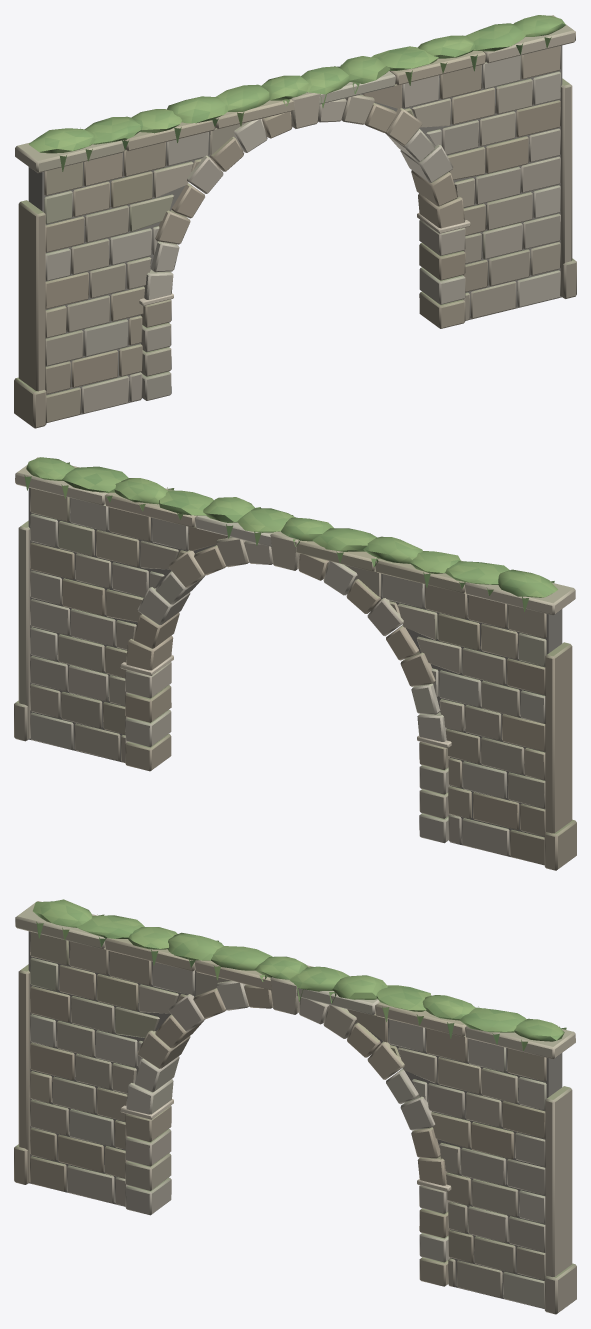
File: forest_tunnel_portal.glb
3 renders of one model, top to bottom at view 1: azimuth 30°, elevation 25°; view 2: azimuth 150°, elevation 25°; view 3: azimuth 330°, elevation 25°, orthographic.
Visible parts, largest first — view 1: forest_tunnel_portal; view 2: forest_tunnel_portal; view 3: forest_tunnel_portal.
Boxes of the visible parts, <box> form: forest_tunnel_portal: <box>14,15,576,428</box>; forest_tunnel_portal: <box>14,457,576,870</box>; forest_tunnel_portal: <box>14,899,576,1314</box>.
Size of the model in its own units: 187 by 92.08 by 16.6.
